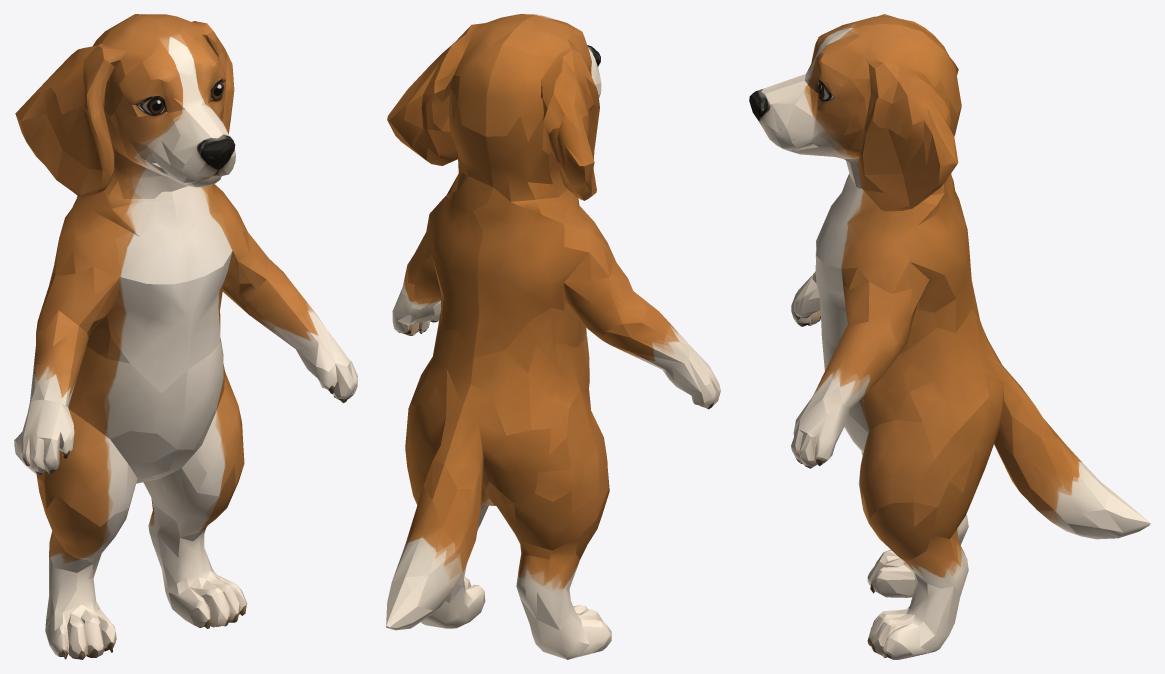
File: dog.glb
The picture shows the model from 3 angles, left to right: view 1: azimuth 30°, elevation 25°; view 2: azimuth 150°, elevation 25°; view 3: azimuth 270°, elevation 25°; orthographic projection. The views are drawn at different scales.
Parts seen in each view (by area): view 1: output_unwrapped; view 2: output_unwrapped; view 3: output_unwrapped.
Part boxes in pixels (x1,y1,x2,y2): output_unwrapped: (14, 14, 357, 659); output_unwrapped: (386, 14, 720, 659); output_unwrapped: (749, 14, 1150, 659).
Size of the model in its own units: 1.07 by 1.9 by 1.17.
Materials: 1 (1 with a texture image).
